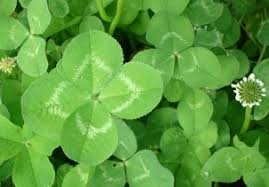4-clover: (24, 34, 163, 163)
